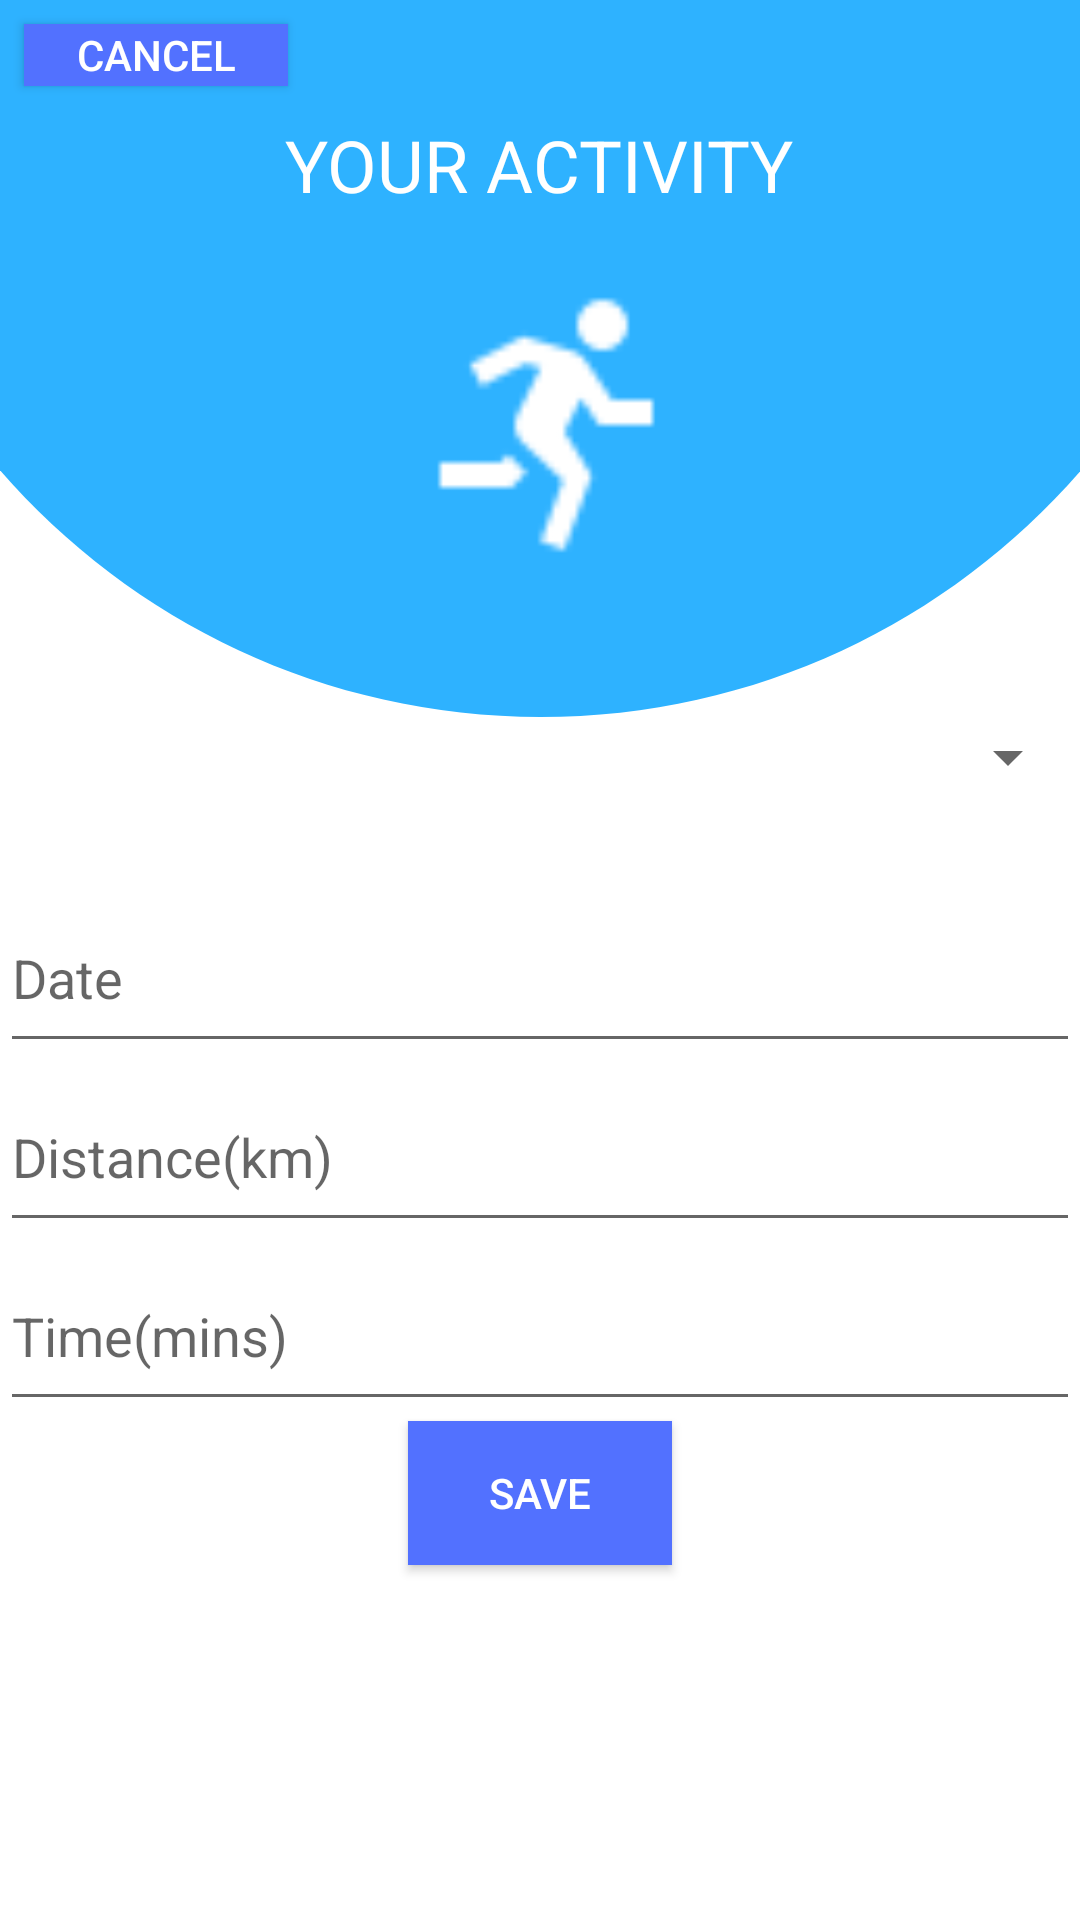

Screen size 1080 × 1920. Icon name, then its center in pixels as (x=x, y=y):
running: (x=546, y=425)
